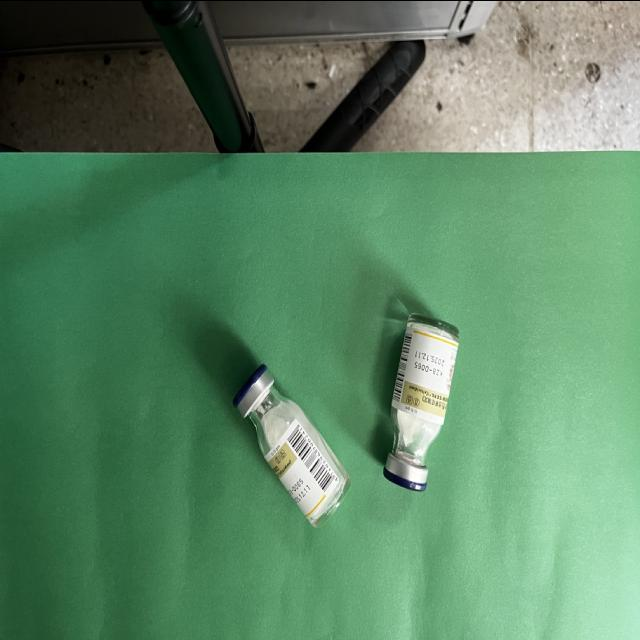Vials: (232, 363, 350, 527), (382, 313, 459, 491)
